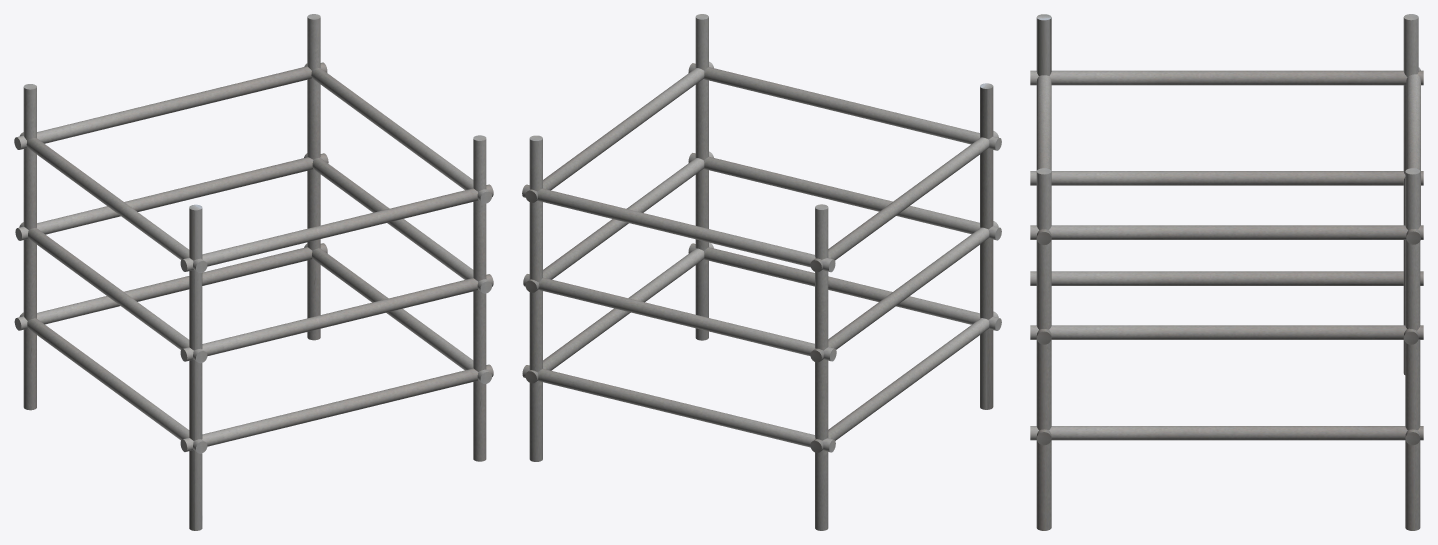
File: Scaffolding_Frame.fbx
3 views of the same model, side by side, from view 1: azimuth 30°, elevation 25°; view 2: azimuth 150°, elevation 25°; view 3: azimuth 270°, elevation 25° (orthographic). The views are drawn at different scales.
Parts seen in each view (by area): view 1: pasted__pasted__pCylinder1 (×6), pasted__pasted__pasted__pCylinder1 (×4), pasted__pCylinder1 (×2), pasted__pasted__pasted__pasted__pCylinder1 (×2), pCylinder1, pasted__pasted__pasted__pasted__pasted__pCylinder1; view 2: pasted__pasted__pCylinder1 (×6), pasted__pasted__pasted__pCylinder1 (×4), pasted__pCylinder1 (×2), pasted__pasted__pasted__pasted__pCylinder1 (×2), pCylinder1, pasted__pasted__pasted__pasted__pasted__pCylinder1; view 3: pasted__pasted__pasted__pCylinder1 (×4), pasted__pasted__pCylinder1 (×4), pasted__pasted__pasted__pasted__pCylinder1 (×2), pasted__pasted__pasted__pasted__pasted__pCylinder1, pasted__pCylinder1, pCylinder1.
Boxes of the visible parts, x1,y1,x2,y2 form: pasted__pasted__pCylinder1 (×6): (14, 14, 493, 383); pasted__pasted__pasted__pCylinder1 (×4): (14, 62, 491, 453); pasted__pCylinder1 (×2): (180, 135, 493, 461); pasted__pasted__pasted__pasted__pCylinder1 (×2): (19, 63, 491, 363); pCylinder1: (189, 204, 202, 530); pasted__pasted__pasted__pasted__pasted__pCylinder1: (20, 132, 207, 272); pasted__pasted__pCylinder1 (×6): (522, 63, 1001, 461); pasted__pasted__pasted__pCylinder1 (×4): (522, 151, 998, 530); pasted__pCylinder1 (×2): (688, 14, 1001, 340); pasted__pasted__pasted__pasted__pCylinder1 (×2): (525, 61, 998, 362); pCylinder1: (980, 83, 993, 409); pasted__pasted__pasted__pasted__pasted__pCylinder1: (810, 131, 998, 272); pasted__pasted__pasted__pCylinder1 (×4): (1030, 14, 1423, 374); pasted__pasted__pCylinder1 (×4): (1030, 75, 1423, 530); pasted__pasted__pasted__pasted__pCylinder1 (×2): (1030, 171, 1423, 239); pasted__pasted__pasted__pasted__pasted__pCylinder1: (1030, 70, 1423, 85); pasted__pCylinder1: (1036, 168, 1051, 530); pCylinder1: (1036, 14, 1051, 75).
Bounding box in the file's own units: 3.05 × 3.05 × 3.05.
